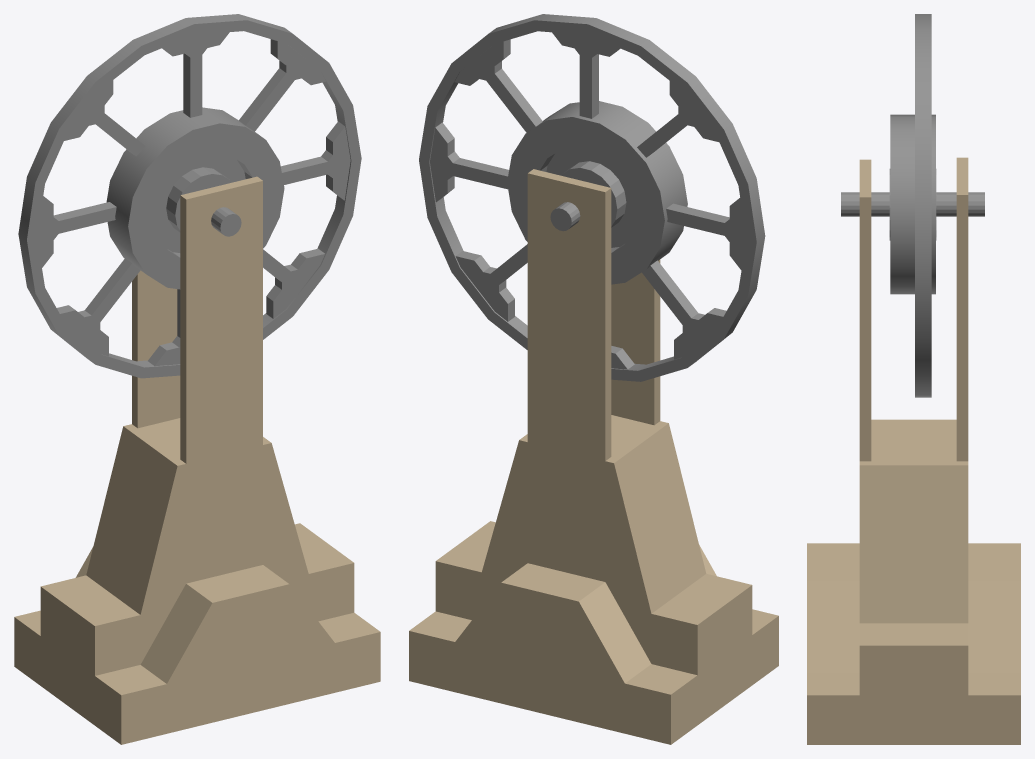
Rendered from MirrorRotator.FBX.
3 renders of one model, left to right at view 1: azimuth 30°, elevation 25°; view 2: azimuth 150°, elevation 25°; view 3: azimuth 270°, elevation 25°, orthographic.
Parts seen in each view (by area): view 1: Line001, Cylinder002; view 2: Line001, Cylinder002; view 3: Line001, Cylinder002.
Boxes of the visible parts, <box> form: Line001: <box>14,176,380,744</box>; Cylinder002: <box>18,14,361,378</box>; Line001: <box>409,169,778,744</box>; Cylinder002: <box>419,14,765,381</box>; Line001: <box>807,157,1020,744</box>; Cylinder002: <box>841,14,984,397</box>.
Size of the model in its own units: 66.3 by 123 by 36.7.
